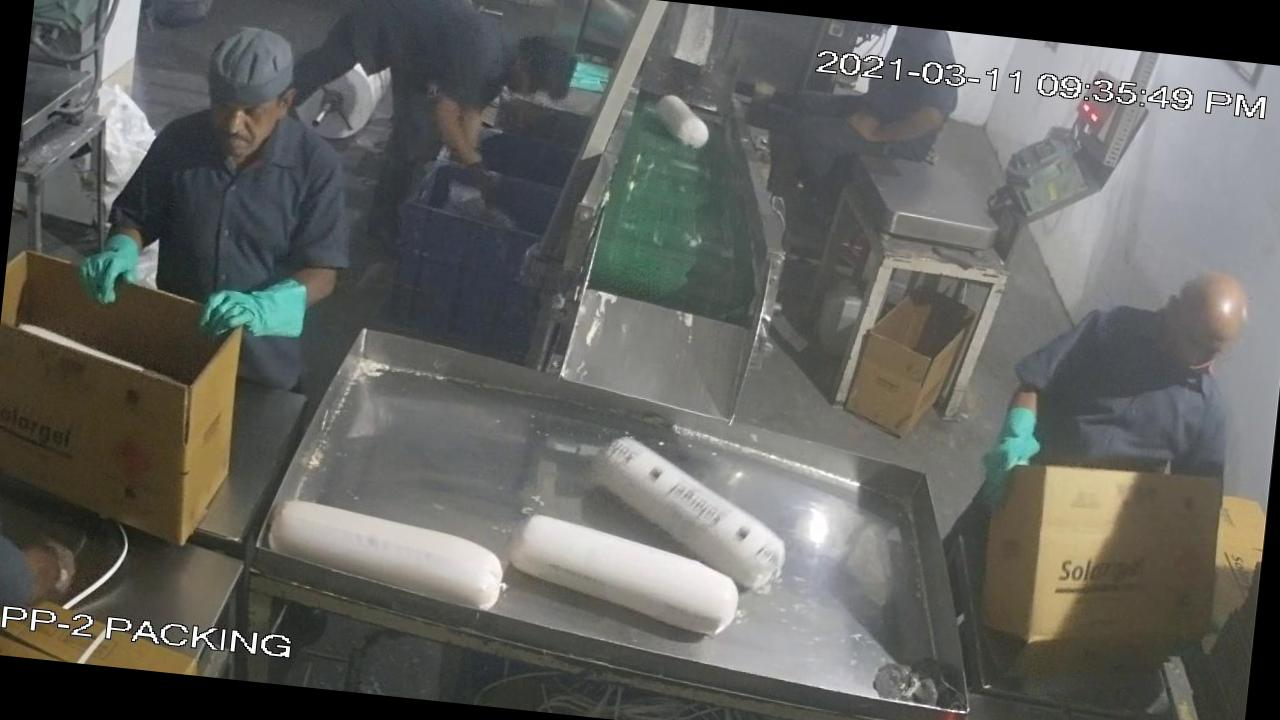Gloves: (952, 385, 1068, 522), (192, 253, 318, 369), (77, 220, 148, 318)
No-gloves: (1, 500, 110, 632), (815, 84, 969, 174), (408, 85, 508, 192)
